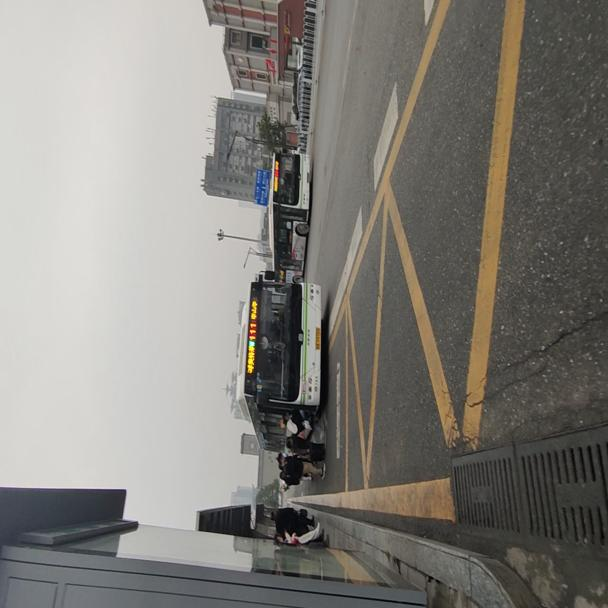bus: (238, 274, 320, 445), (265, 148, 310, 266)
screen: (246, 316, 256, 342)
